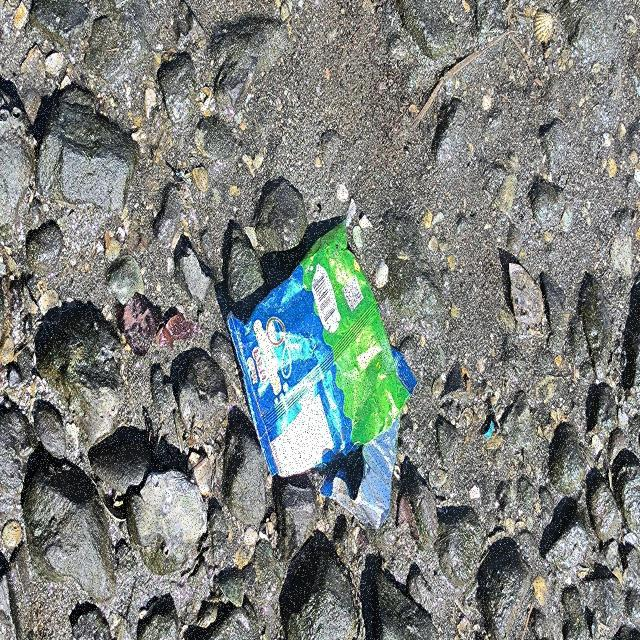plastic_waste: (226, 217, 420, 534)
